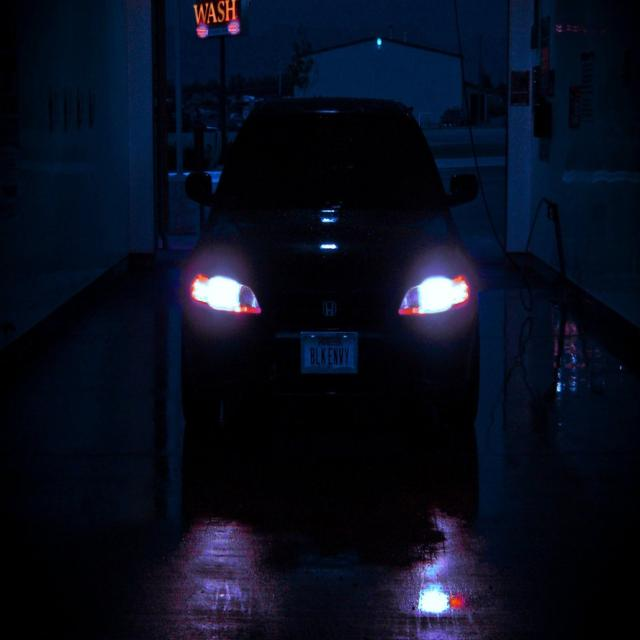Car: (181, 88, 481, 440)
